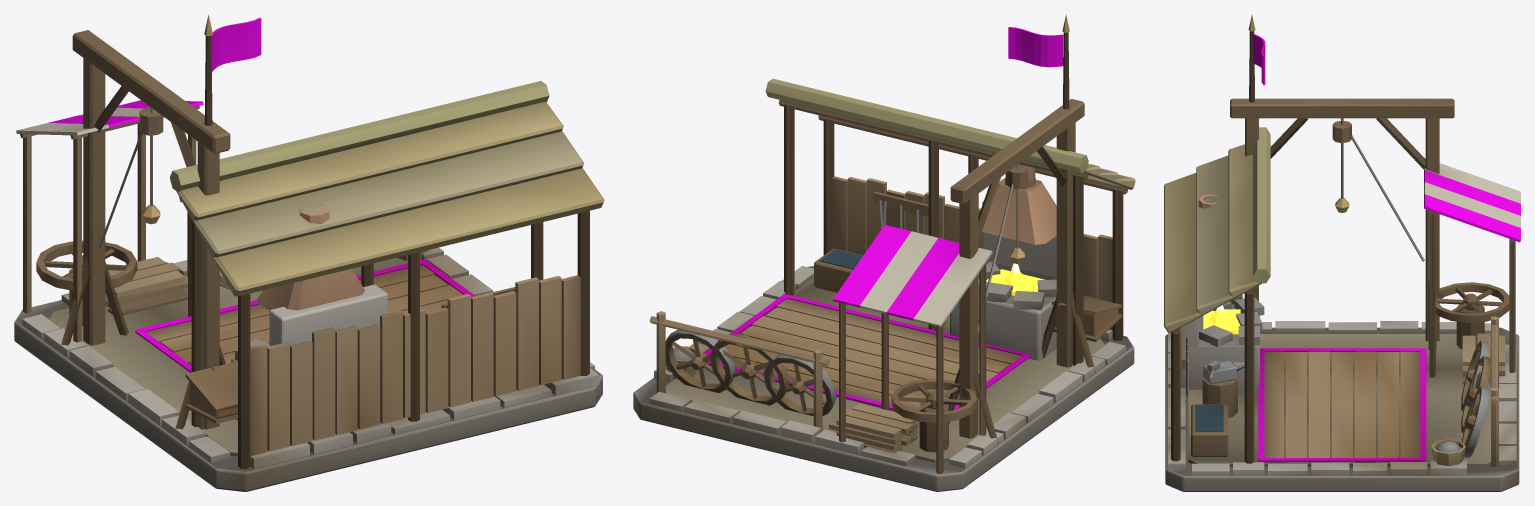
Rendered from repair_bay_antiquity.glb.
The picture shows the model from 3 angles, left to right: view 1: azimuth 30°, elevation 25°; view 2: azimuth 150°, elevation 25°; view 3: azimuth 270°, elevation 25°; orthographic projection. The views are drawn at different scales.
Visible parts, largest first — view 1: Body; view 2: Body; view 3: Body.
Part boxes in pixels (bbox=[...]): Body: bbox=[14, 15, 604, 491]; Body: bbox=[633, 14, 1135, 491]; Body: bbox=[1164, 14, 1520, 491].
Bounding box in the file's own units: 4 × 4.28 × 4.03.
1 material, 1 textured.
